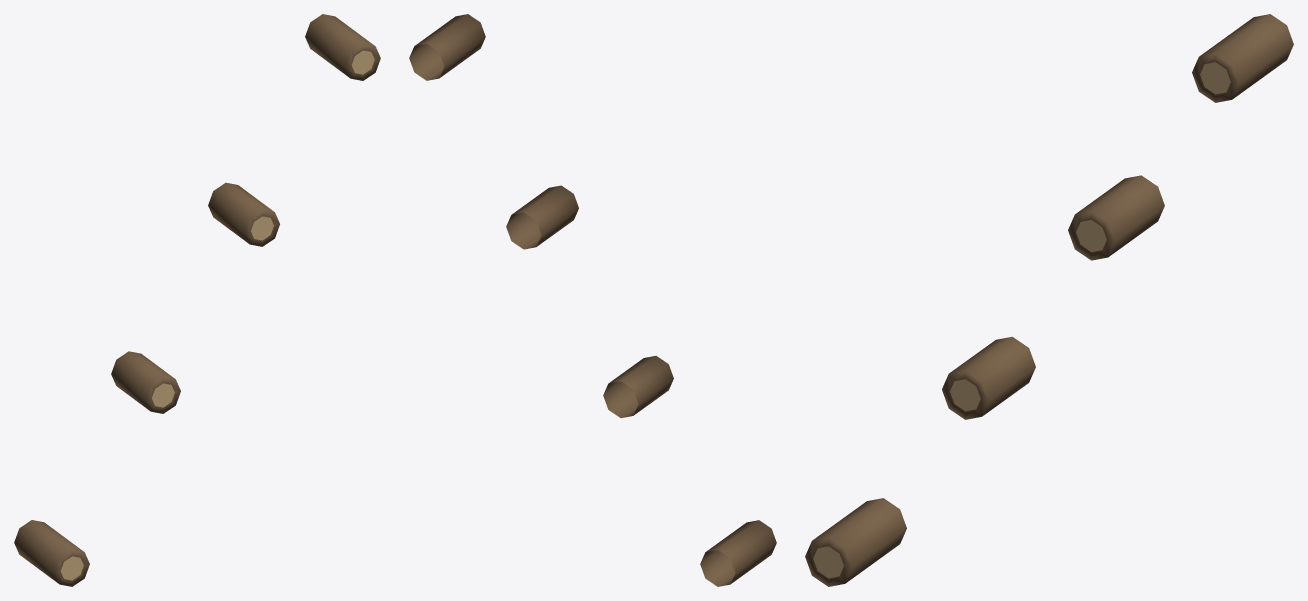
The model's file is rpgpp_ag_roof_support_01_6x5x3_end_01_half_a.fbx.
3 renders of one model, left to right at view 1: azimuth 30°, elevation 25°; view 2: azimuth 150°, elevation 25°; view 3: azimuth 330°, elevation 25°, orthographic. The views are drawn at different scales.
Parts seen in each view (by area): view 1: rpgpp_ag_roof_support_01_6x5x3_end_01_half_a; view 2: rpgpp_ag_roof_support_01_6x5x3_end_01_half_a; view 3: rpgpp_ag_roof_support_01_6x5x3_end_01_half_a.
Boxes of the visible parts, left/top/right/bottom form: rpgpp_ag_roof_support_01_6x5x3_end_01_half_a: left=14, top=14, right=380, bottom=586; rpgpp_ag_roof_support_01_6x5x3_end_01_half_a: left=409, top=14, right=776, bottom=586; rpgpp_ag_roof_support_01_6x5x3_end_01_half_a: left=805, top=14, right=1293, bottom=586.
Size of the model in its own units: 2.36 by 3.26 by 0.5111.
